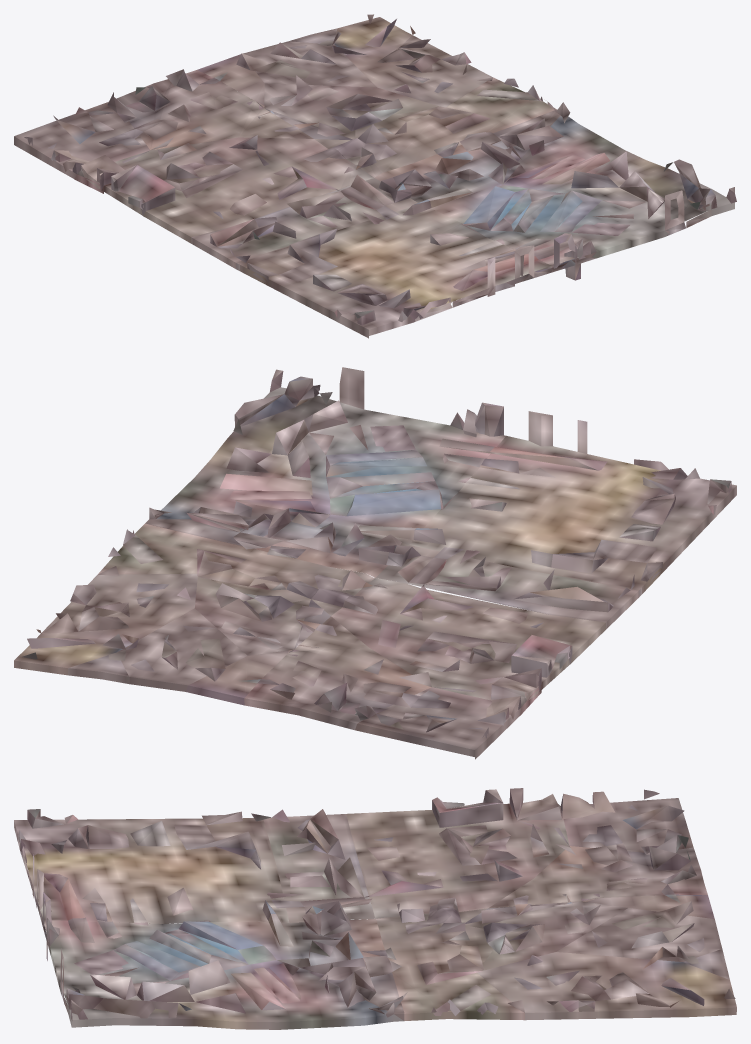
3 renders of one model, top to bottom at view 1: azimuth 30°, elevation 25°; view 2: azimuth 150°, elevation 25°; view 3: azimuth 270°, elevation 25°, orthographic. The views are drawn at different scales.
Parts seen in each view (by area): view 1: Mesh_0; view 2: Mesh_0; view 3: Mesh_0.
Part boxes in pixels (<box>): Mesh_0: <box>14,14,736,338</box>; Mesh_0: <box>14,367,736,759</box>; Mesh_0: <box>14,788,736,1029</box>.
Bounding box in the file's own units: 535 × 66.87 × 659.
1 material, 1 textured.
